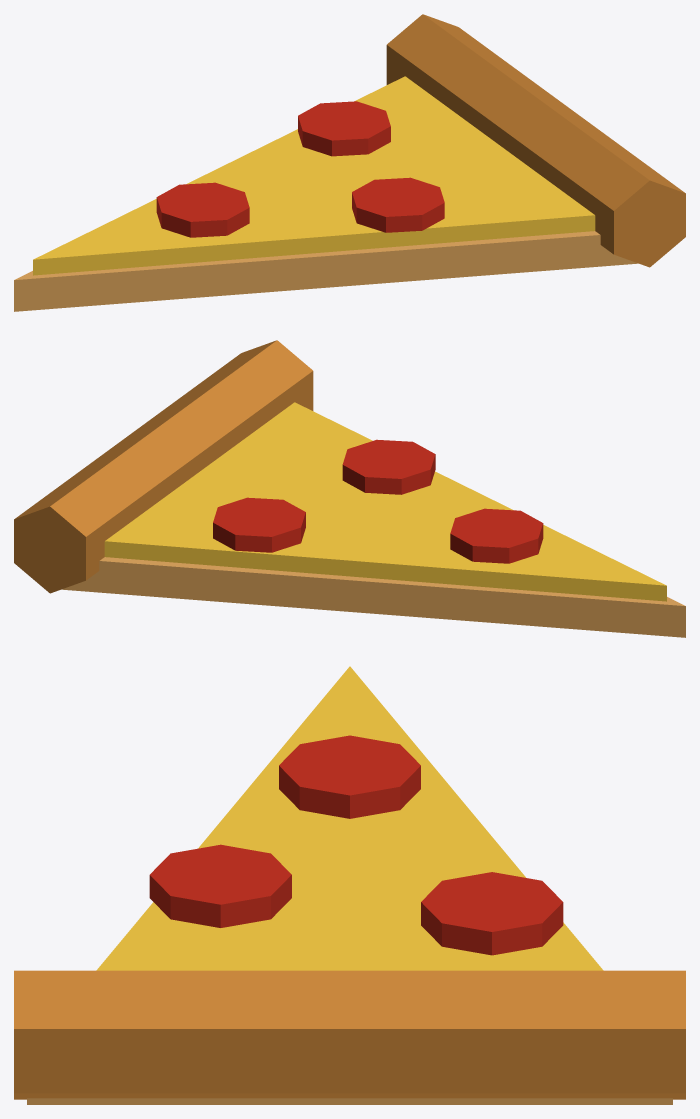
The model's file is pizza_slice.glb.
3 renders of one model, top to bottom at view 1: azimuth 30°, elevation 25°; view 2: azimuth 150°, elevation 25°; view 3: azimuth 270°, elevation 25°, orthographic. The views are drawn at different scales.
Parts seen in each view (by area): view 1: pizza_slice; view 2: pizza_slice; view 3: pizza_slice.
Boxes of the visible parts, x1,y1,x2,y2 form: pizza_slice: (14,14,685,311); pizza_slice: (14,340,685,637); pizza_slice: (14,666,685,1104).
Size of the model in its own units: 0.1475 by 0.022 by 0.104.
